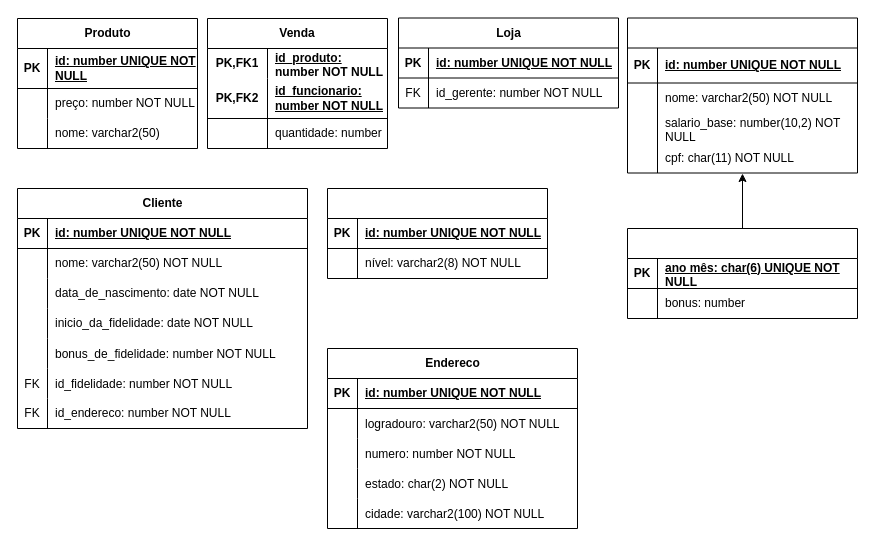
Image size: 875x546. Some labels were removed from this diagram. Each missing label, with the box of its shape:
Fidelidade: (326, 188, 548, 278)
Funcionario: (626, 17, 858, 173)
Gerente: (626, 228, 858, 318)
